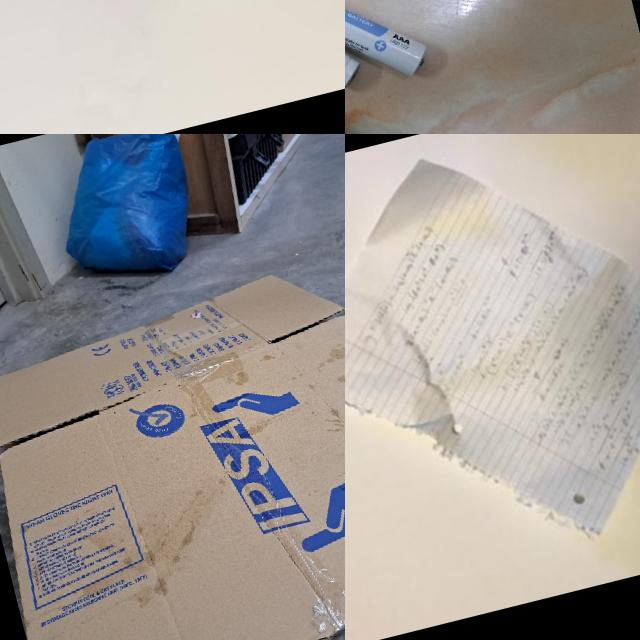bateria: (345, 0, 434, 100)
papel: (345, 134, 640, 591)
papelão: (0, 234, 345, 640)
sacola plástica: (39, 134, 208, 295)
